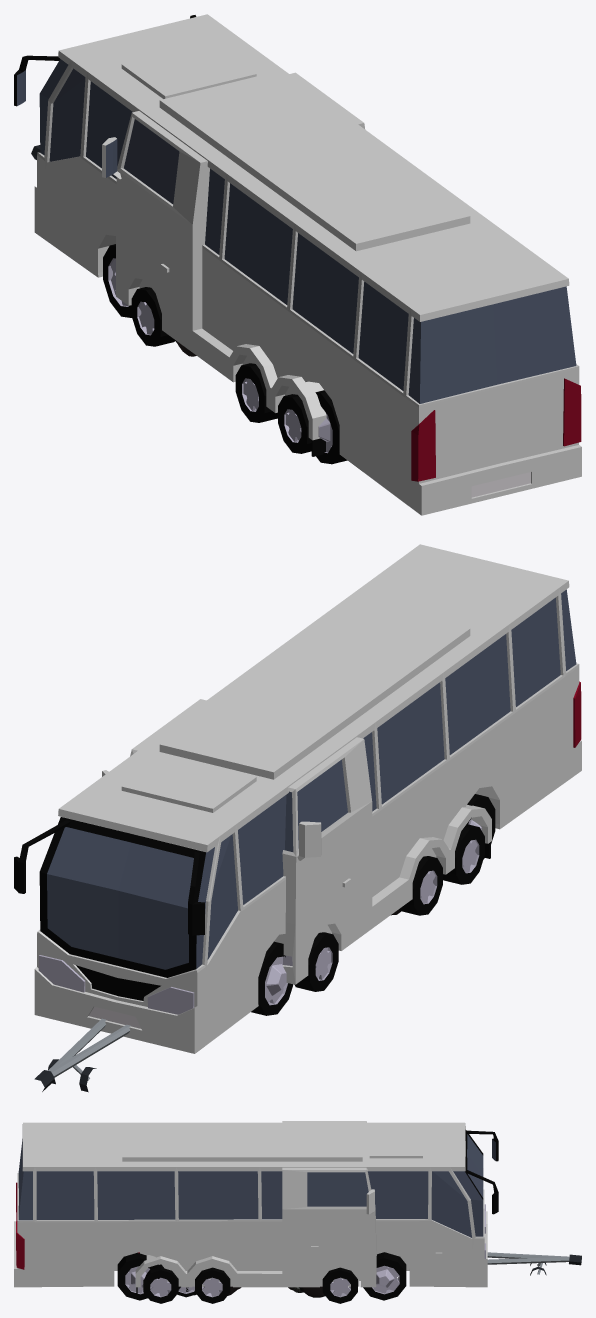
The model's file is vehicles.glb.
The picture shows the model from 3 angles, top to bottom: view 1: azimuth 30°, elevation 25°; view 2: azimuth 150°, elevation 25°; view 3: azimuth 270°, elevation 25°; orthographic projection. The views are drawn at different scales.
Visible parts, largest first — view 1: bus, truck; view 2: bus, truck, tug; view 3: bus, truck, tug.
Boxes of the visible parts, <box> form: bus: <box>14,14,581,515</box>; truck: <box>102,72,365,456</box>; bus: <box>14,544,581,1053</box>; truck: <box>102,699,491,991</box>; tug: <box>34,909,400,1092</box>; bus: <box>14,1122,498,1300</box>; truck: <box>135,1121,376,1303</box>; tug: <box>204,1252,581,1297</box>.
Size of the model in its own units: 3.51 by 3.43 by 12.89.
